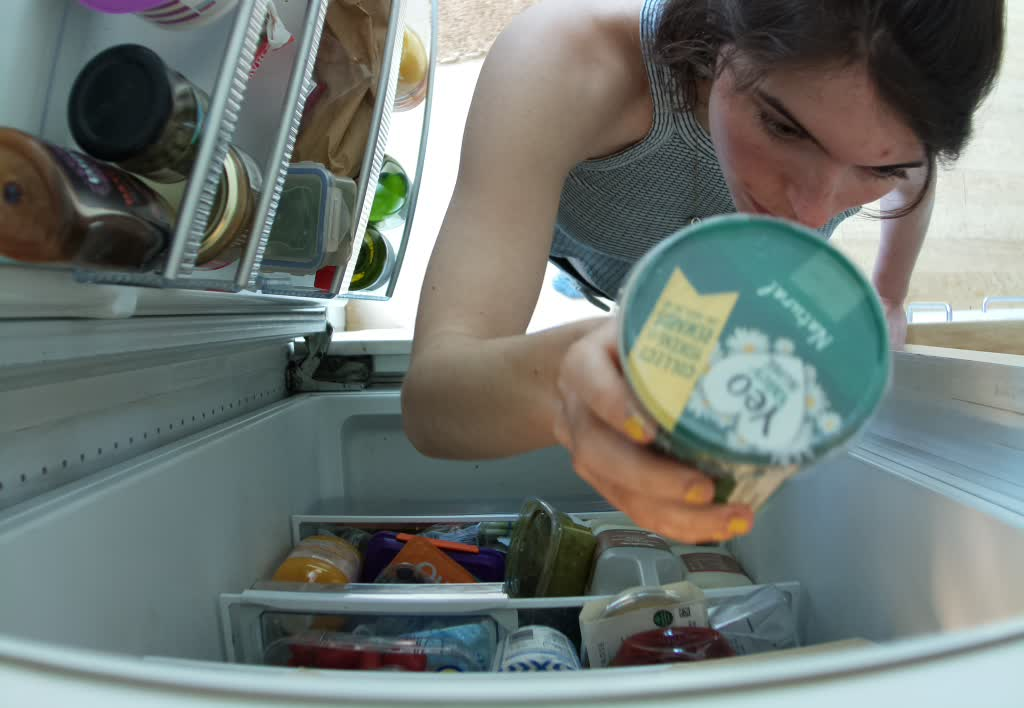yogurt: (617, 208, 898, 529)
